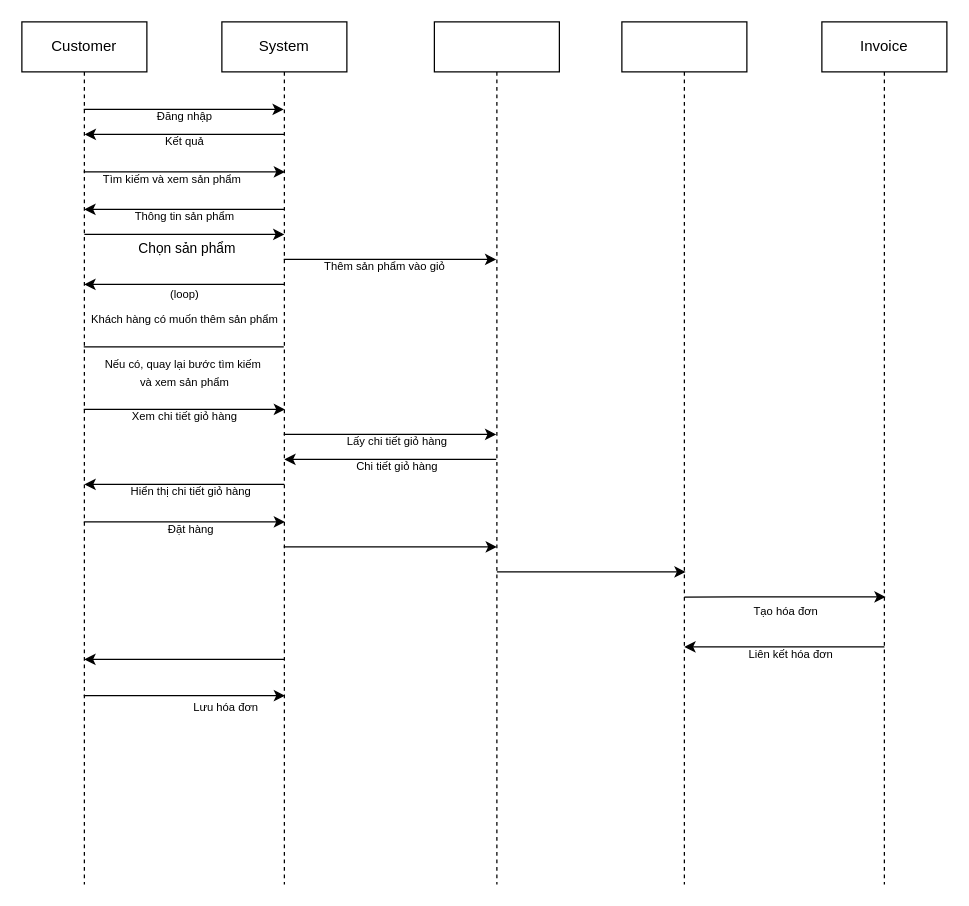
Some shapes in this 969 by 906 pixel diagram are drawn without their labels. Here are the shapes that lost their labels. From the top down, the box of each, then its label:
(433, 21, 559, 884): Card
(621, 21, 747, 884): Order
